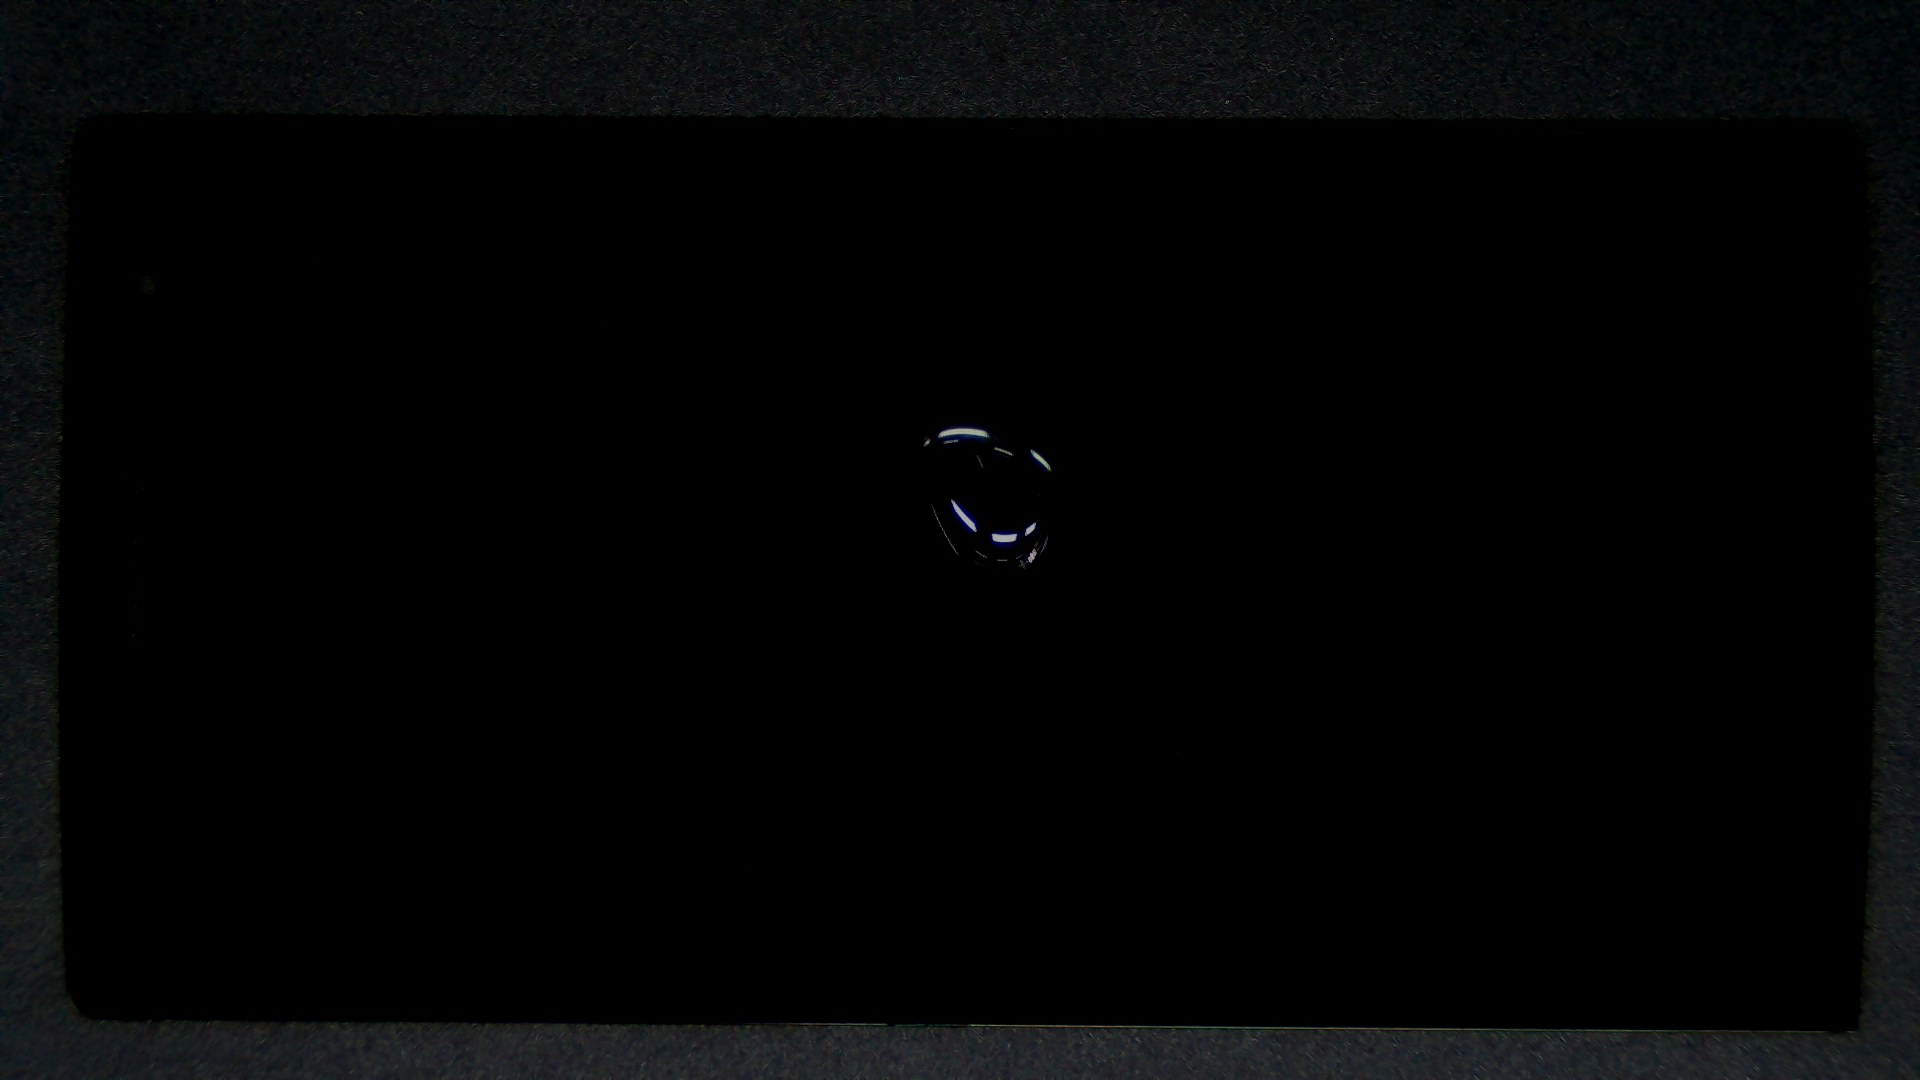oil: (477, 207, 1429, 622)
